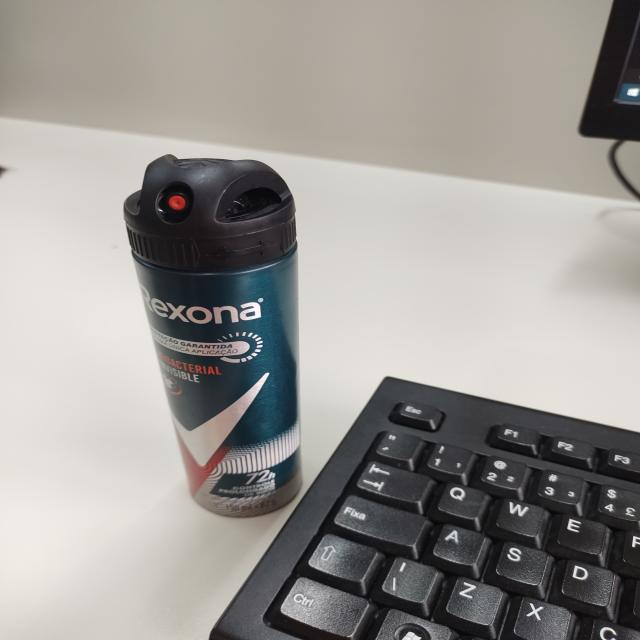Desodorante Azul: (124, 155, 301, 516)
